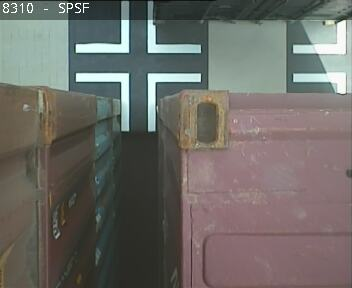groundmarker_1: (75, 70, 201, 131), (75, 1, 200, 53), (293, 21, 346, 91)
